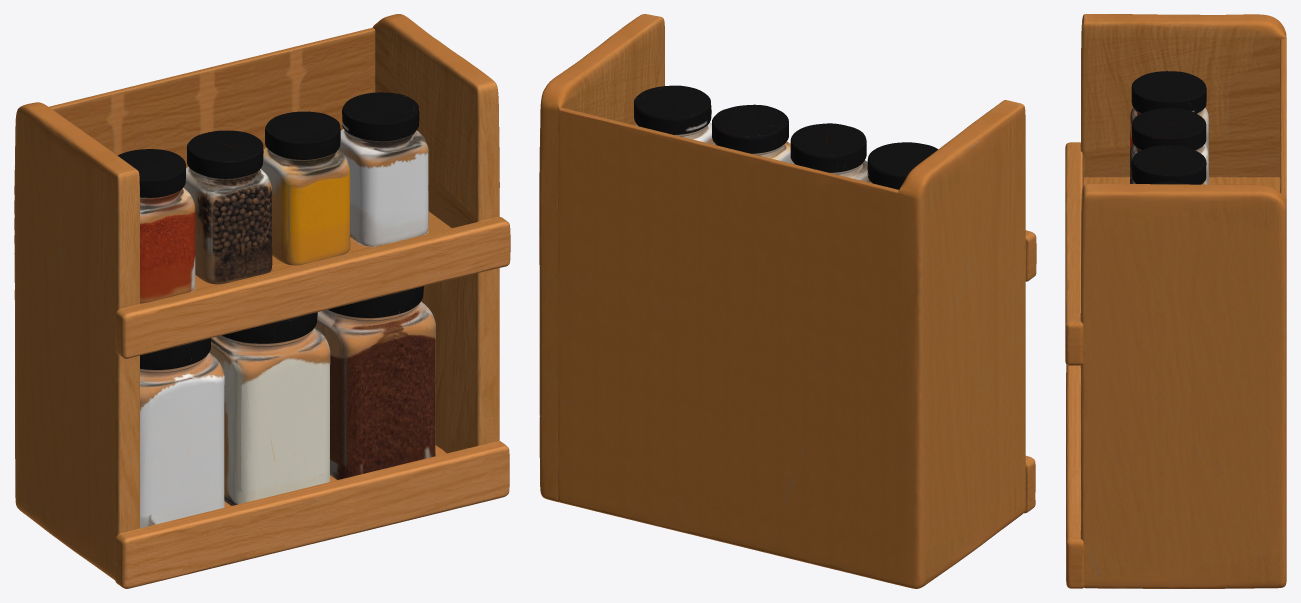
The model's file is rack.glb.
3 renders of one model, left to right at view 1: azimuth 30°, elevation 25°; view 2: azimuth 150°, elevation 25°; view 3: azimuth 270°, elevation 25°, orthographic. The views are drawn at different scales.
Parts seen in each view (by area): view 1: Mesh_0; view 2: Mesh_0; view 3: Mesh_0.
Boxes of the visible parts, <box> form: Mesh_0: <box>14,14,510,588</box>; Mesh_0: <box>539,14,1036,588</box>; Mesh_0: <box>1065,14,1286,588</box>.
Bounding box in the file's own units: 3.77 × 3.81 × 1.92.
1 material, 1 textured.
